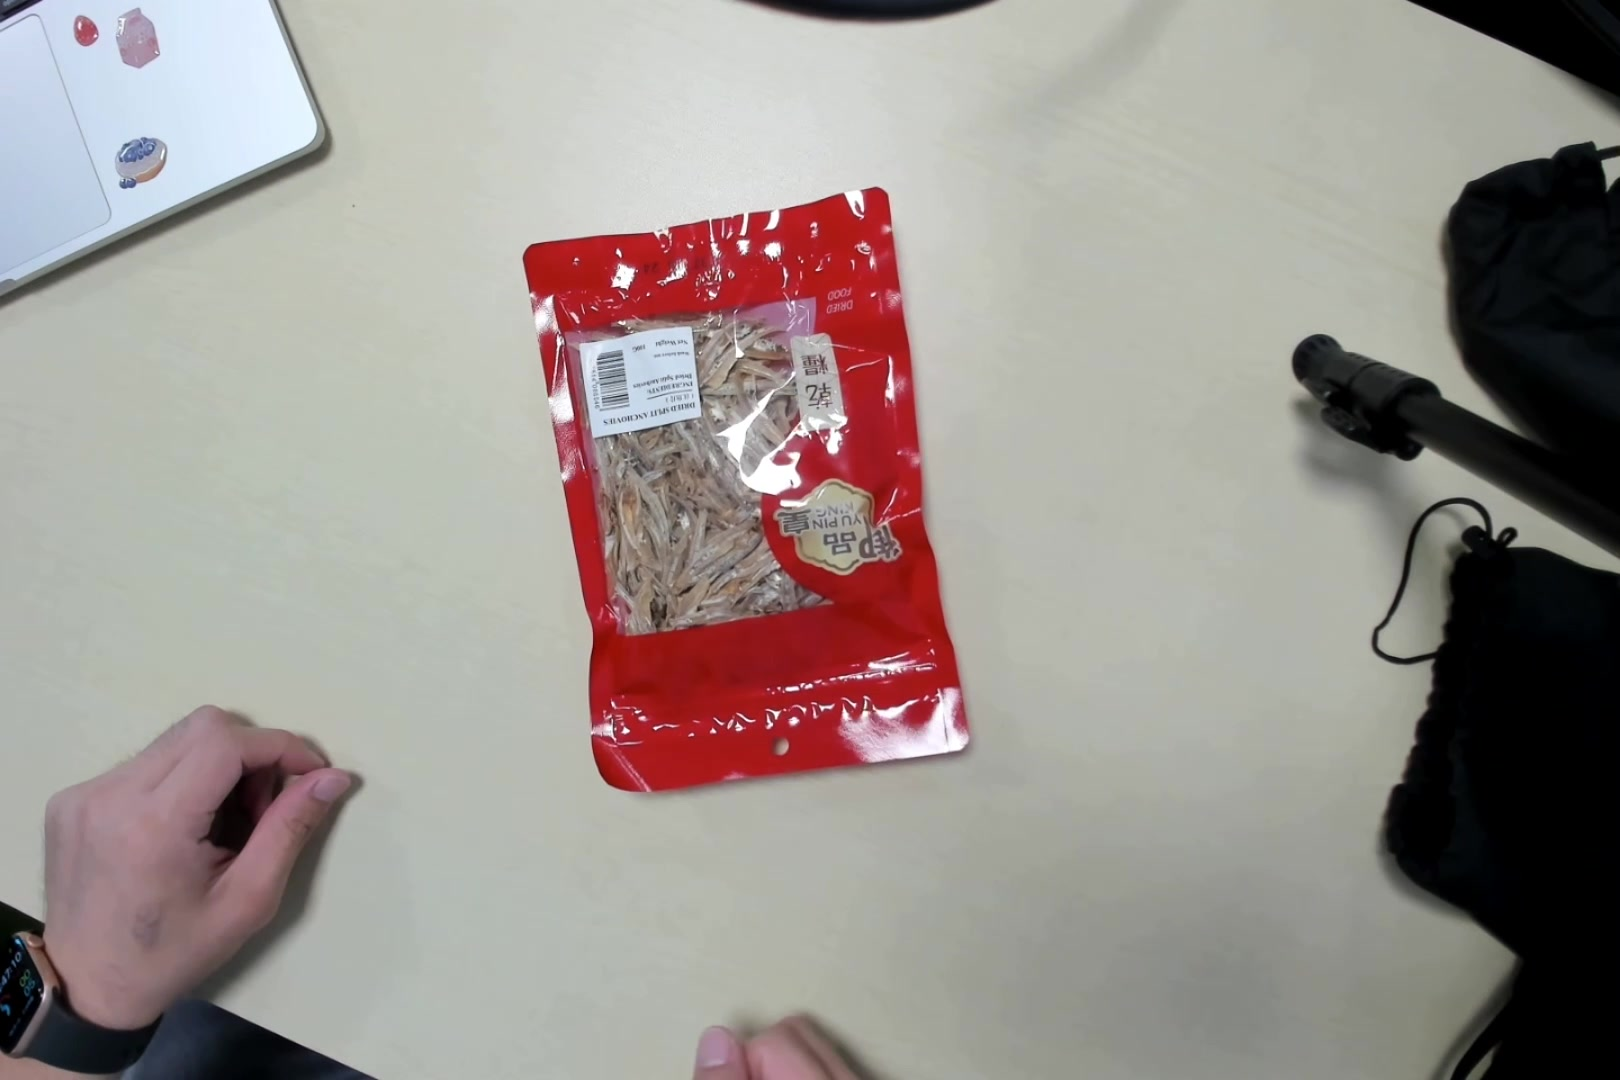DriedMeatSeafood_100-199g_NonHalal_NonHealthy: (520, 184, 969, 785)
